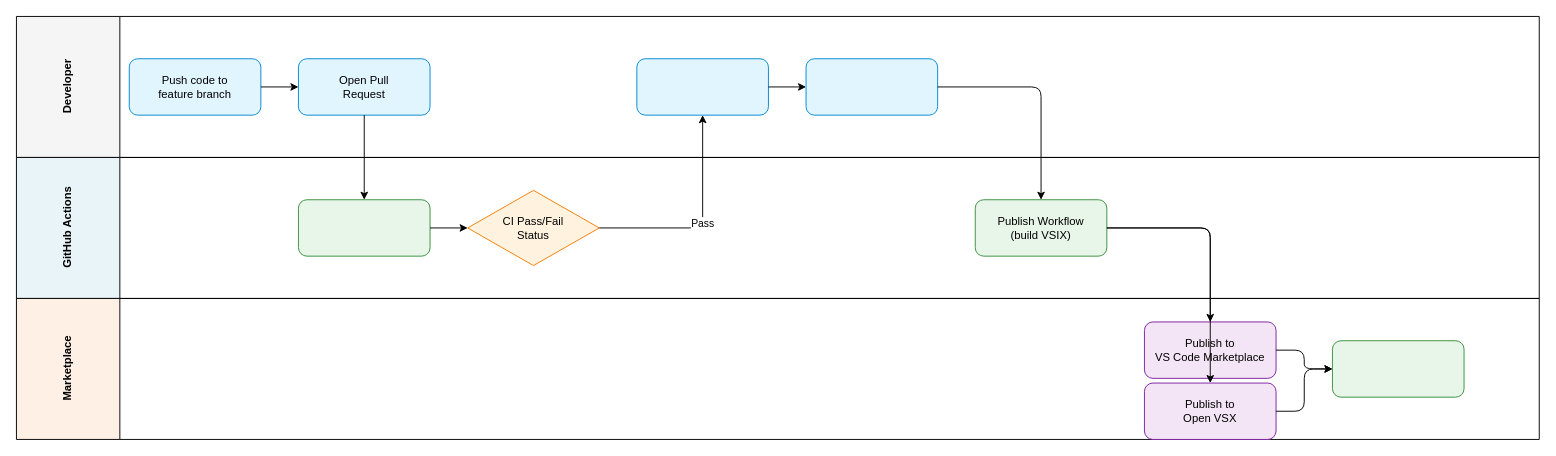
The diagram is 1556 pixels wide and 456 high, and some of its shapes have lost their labels. The shapes that lost their labels are listed below. From the top down, each one's centre as x and y in pixels, then its label:
At (702,86): "Merge PR to main".
At (871,86): "Bump version + Create tag v*".
At (364,227): "CI Workflow (build + validate)".
At (1398,368): "Create GitHub Release + VSIX".
